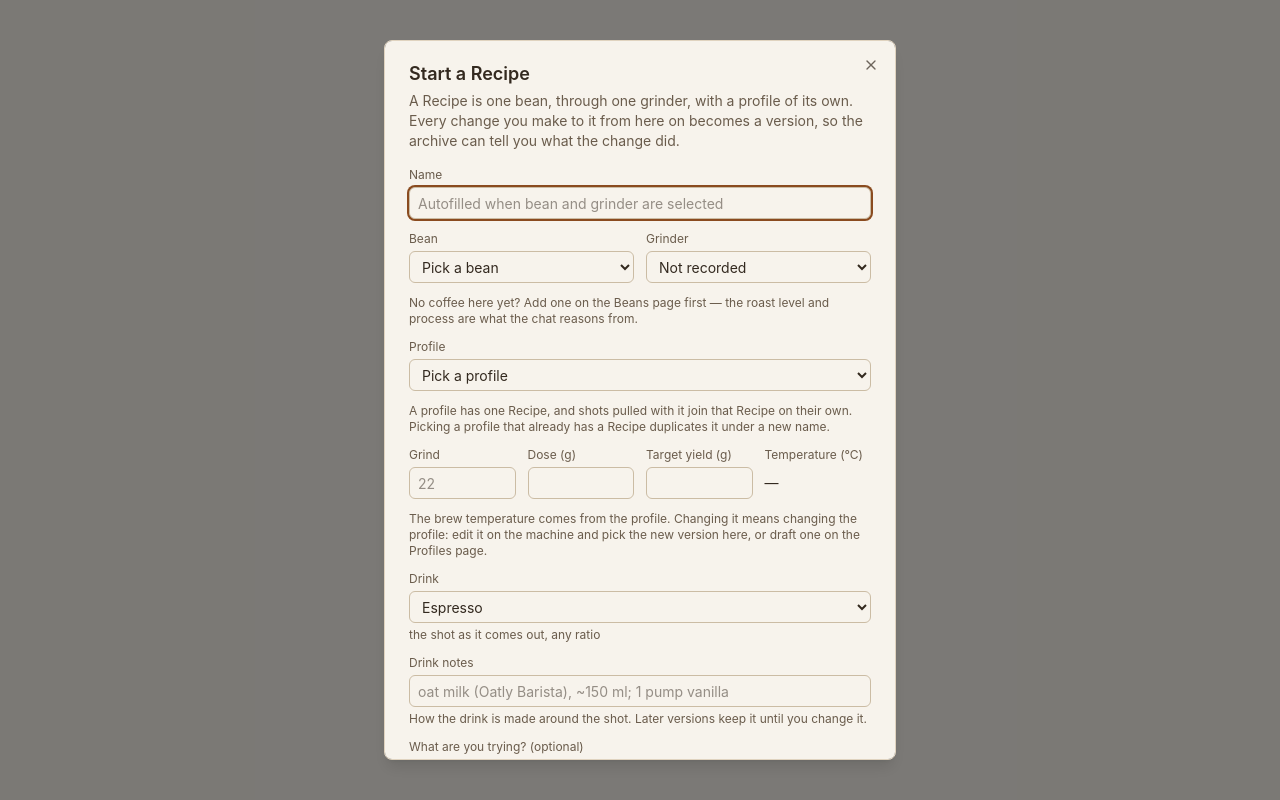
Test case: NewRecipeDialog › says the picked coffee's taste scales that are set, and only those
Select "Ethiopia Guji — Hasbean" in the dropdown labelled "Bean" at (522, 267), box [409,251,634,283]
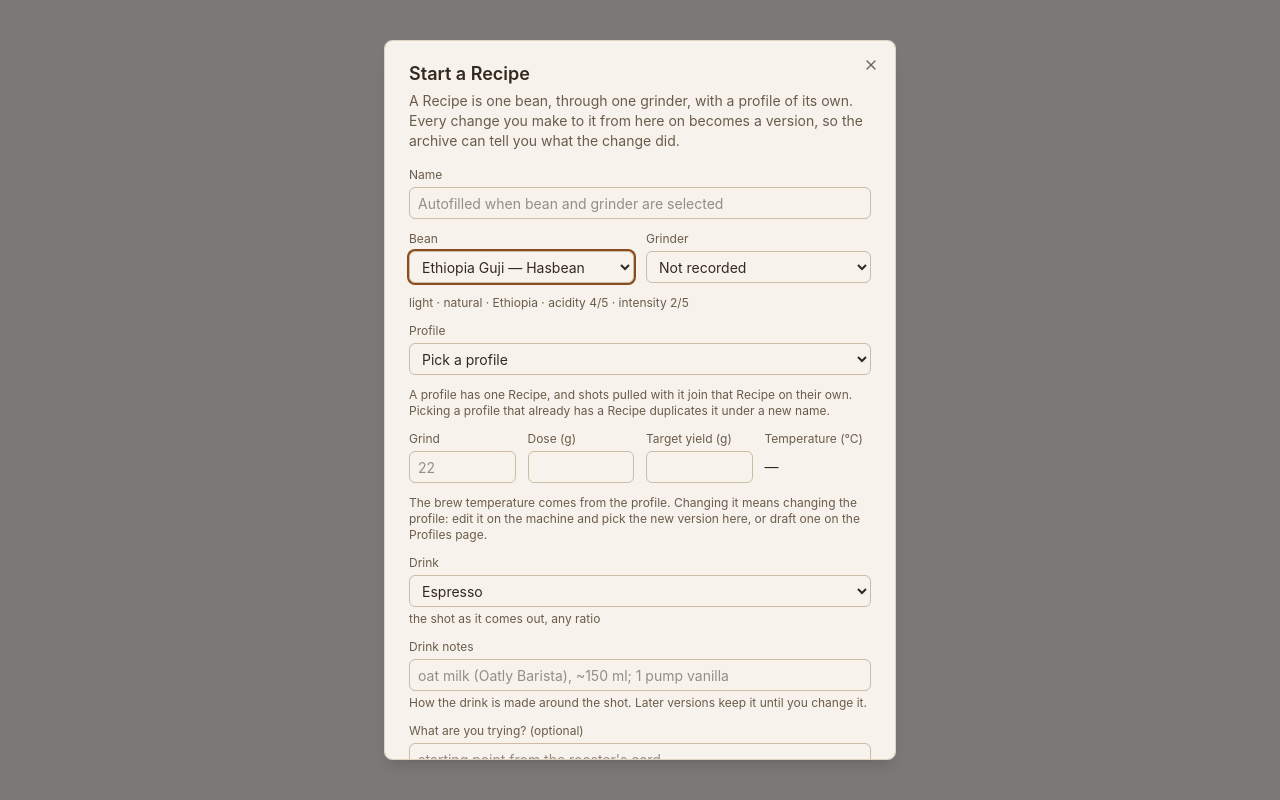
Check: the text with test id "new-recipe-bean-facts" reads "light · natural · Ethiopia · acidity 4/5 · intensity 2/5", box [409,295,689,310]
